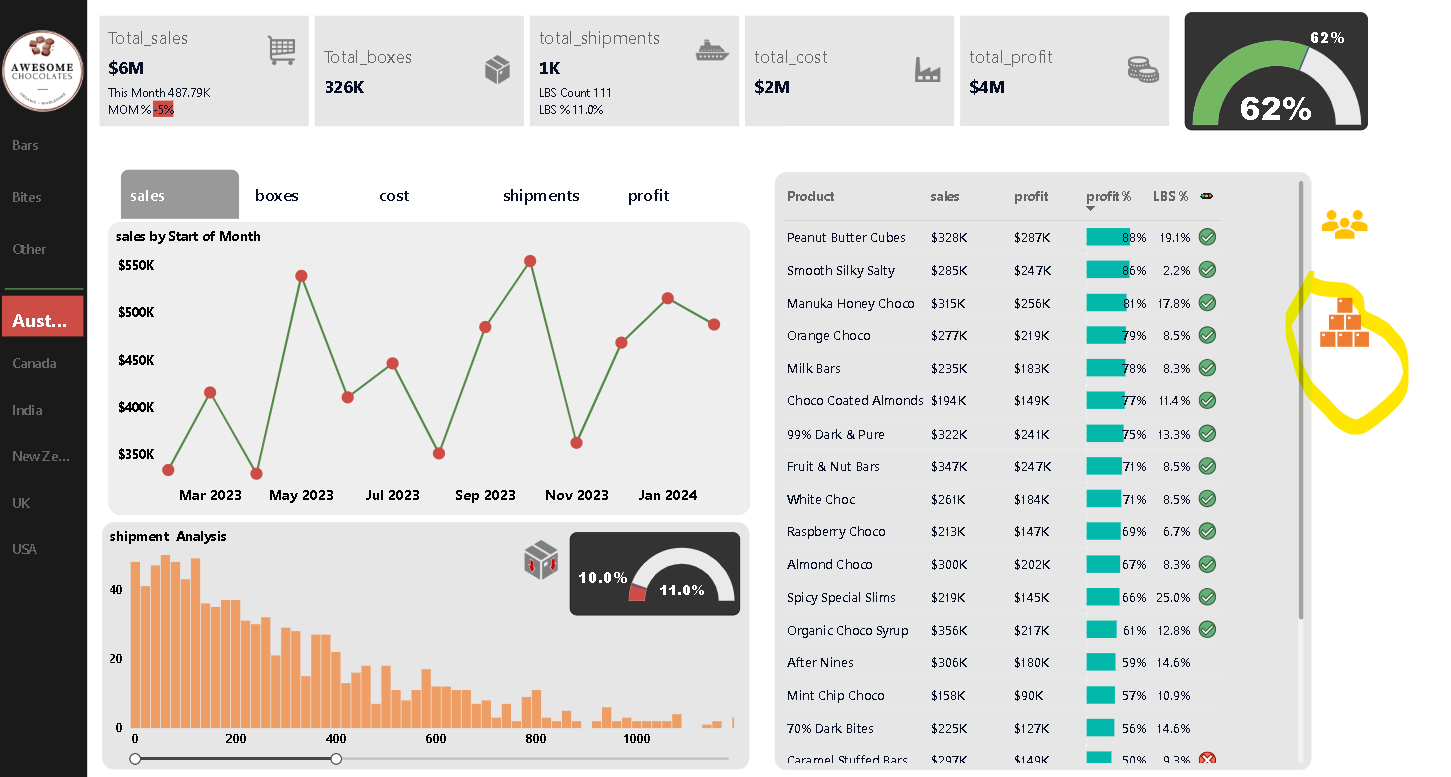

This screenshot's page, from the dashboard's own definition file:
{"tool":"powerbi","page":{"name":"Sales reports","canvas":[1903,1080],"ordinal":2},"visuals":[{"type":"cardVisual","fields":{"Data":["All_Mesaures.Total_sales","All_Mesaures.Total_boxes","All_Mesaures.total_shipments","All_Mesaures.total_cost","All_Mesaures.total_profit"]},"box":[138,22,1482,162],"z":0},{"type":"gauge","fields":{"Y":["All_Mesaures.profit%"]},"box":[1636,22,252,162],"z":1000},{"type":"lineChart","fields":{"Y":["All_Mesaures.total_shipments"],"Category":["calendar.Start of Month"]},"box":[154,312,882,402],"z":2000},{"type":"advancedSlicerVisual","fields":{"Values":["Mesaure Selector.Mesaure Selector"]},"box":[166,234,860,78],"z":3000},{"type":"columnChart","title":"shipment  Analysis","fields":{"Category":["shipments.Boxes (bins)"],"Y":["All_Mesaures.total_shipments"]},"box":[146,724,890,340],"z":4000},{"type":"gauge","fields":{"Y":["All_Mesaures.LBS %"]},"box":[790,738,234,114],"z":5000},{"type":"image","box":[644,738,214,76],"z":6000},{"type":"tableEx","title":"people table","fields":{"Values":["people.Picture","people.Sales person","All_Mesaures.Total_sales","All_Mesaures.total_profit","All_Mesaures.profit%","All_Mesaures.LBS %","All_Mesaures.profit target indicator"]},"box":[1070,242,738,822],"z":7000},{"type":"image","title":"Peoples Icon","box":[1808,274,96,82],"z":9000},{"type":"image","title":"Products Icon","box":[1808,384,96,130],"z":10000},{"type":"shape","box":[4,0,122,1080],"z":11000},{"type":"image","box":[4,22,122,162],"z":12000},{"type":"advancedSlicerVisual","fields":{"Values":["products.Category"]},"box":[4,168,122,216],"z":13000},{"type":"advancedSlicerVisual","fields":{"Values":["shipments.Geography"]},"box":[4,408,122,388],"z":14000},{"type":"shape","box":[12,356,108,94],"z":15000}]}

Visuals, with their boxes on the page's 1903x1080 design canvas (x1, y1, x2, y2). These are canvas units, not pixel positions in the 1451x777 screenshot, which may show the page scaled, cropped or inside an application window:
cardVisual - All_Mesaures.Total_sales x All_Mesaures.Total_boxes: select_region(138, 22, 1620, 184)
gauge - All_Mesaures.profit%: select_region(1636, 22, 1888, 184)
lineChart - All_Mesaures.total_shipments x calendar.Start of Month: select_region(154, 312, 1036, 714)
advancedSlicerVisual - Mesaure Selector.Mesaure Selector: select_region(166, 234, 1026, 312)
"shipment  Analysis" columnChart: select_region(146, 724, 1036, 1064)
gauge - All_Mesaures.LBS %: select_region(790, 738, 1024, 852)
image: select_region(644, 738, 858, 814)
"people table" tableEx: select_region(1070, 242, 1808, 1064)
"Peoples Icon" image: select_region(1808, 274, 1904, 356)
"Products Icon" image: select_region(1808, 384, 1904, 514)
shape: select_region(4, 0, 126, 1080)
image: select_region(4, 22, 126, 184)
advancedSlicerVisual - products.Category: select_region(4, 168, 126, 384)
advancedSlicerVisual - shipments.Geography: select_region(4, 408, 126, 796)
shape: select_region(12, 356, 120, 450)
